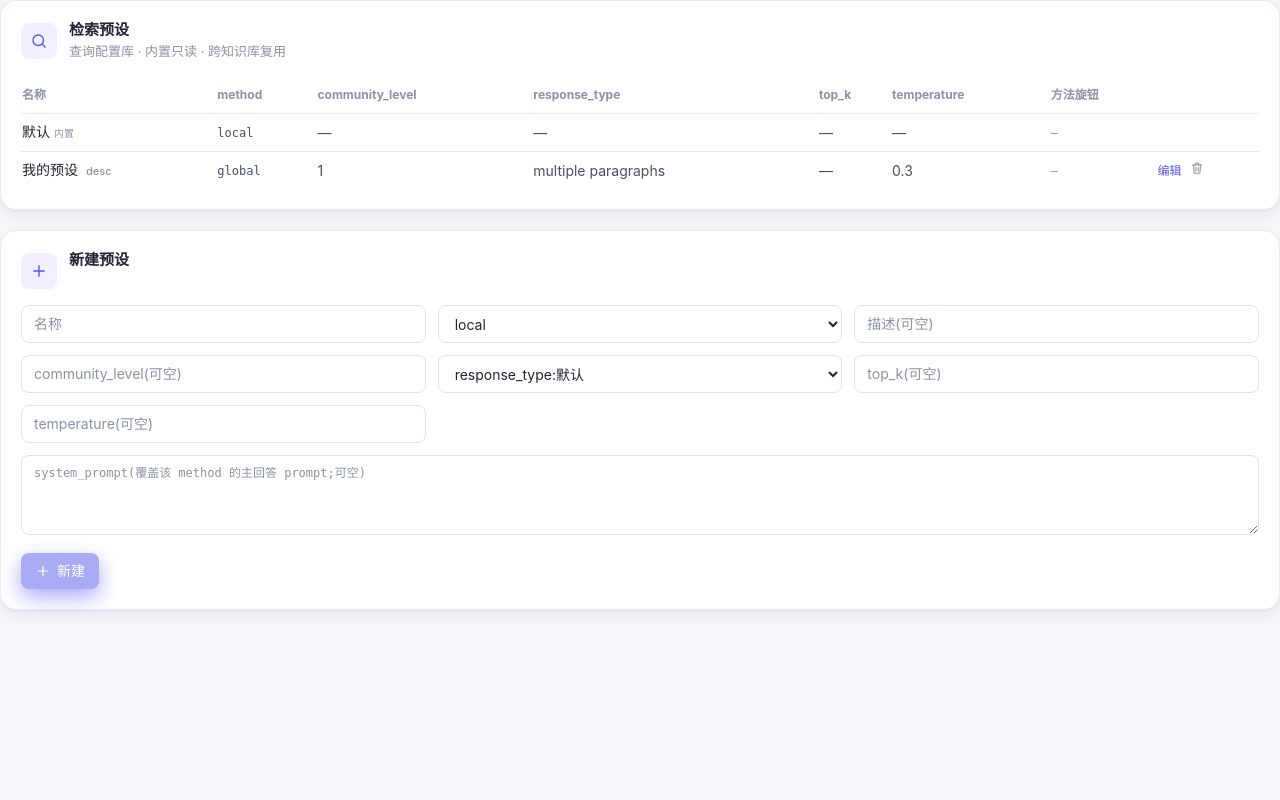
Test case: editing a custom preset loads it into the form
Expected: the text "我的预设" is shown, top-left (22, 161), bottom-right (78, 178)
Click the button with aria-label "编辑 我的预设" at (1170, 171), box top-left (1158, 161), bottom-right (1182, 181)
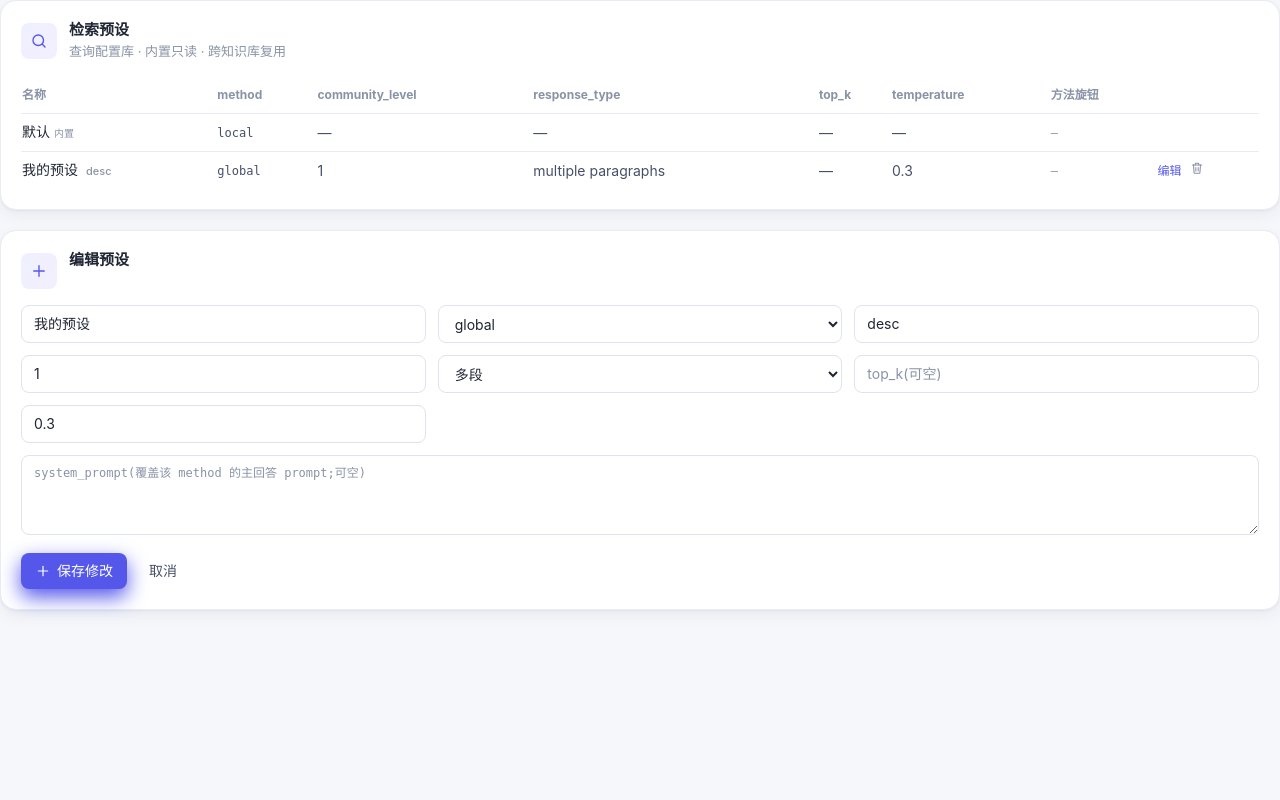
Expected: the 1st field with placeholder "名称" holds "我的预设", top-left (21, 305), bottom-right (426, 343)
Expected: the 2nd field with placeholder "描述(可空)" holds "desc", top-left (854, 305), bottom-right (1259, 343)
Expected: the 1st dropdown showing "global" shows "global", top-left (438, 305), bottom-right (842, 343)
